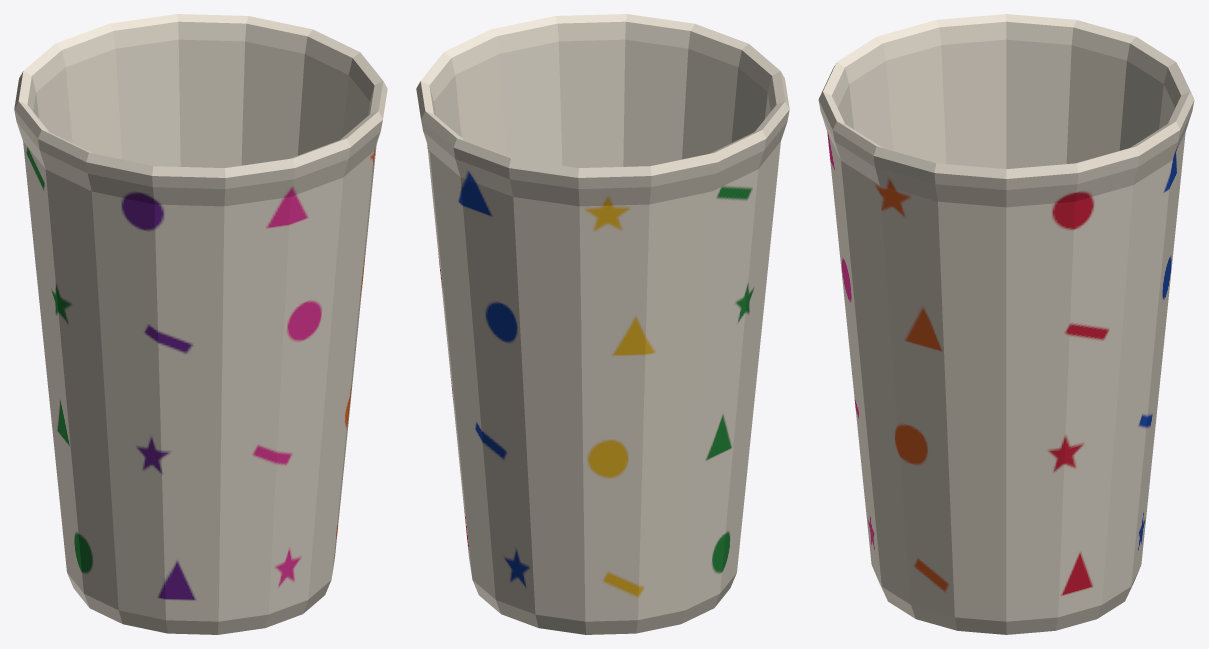
The model's file is party_cup_geometric.glb.
The picture shows the model from 3 angles, left to right: view 1: azimuth 30°, elevation 25°; view 2: azimuth 150°, elevation 25°; view 3: azimuth 270°, elevation 25°; orthographic projection.
Visible parts, largest first — view 1: party_cup_geometric; view 2: party_cup_geometric; view 3: party_cup_geometric.
Part boxes in pixels (left/top/right/bottom): party_cup_geometric: left=14, top=14, right=387, bottom=634; party_cup_geometric: left=416, top=14, right=789, bottom=634; party_cup_geometric: left=818, top=14, right=1194, bottom=634.
Bounding box in the file's own units: 0.085 × 0.122 × 0.085.
Materials: 1 (1 with a texture image).
